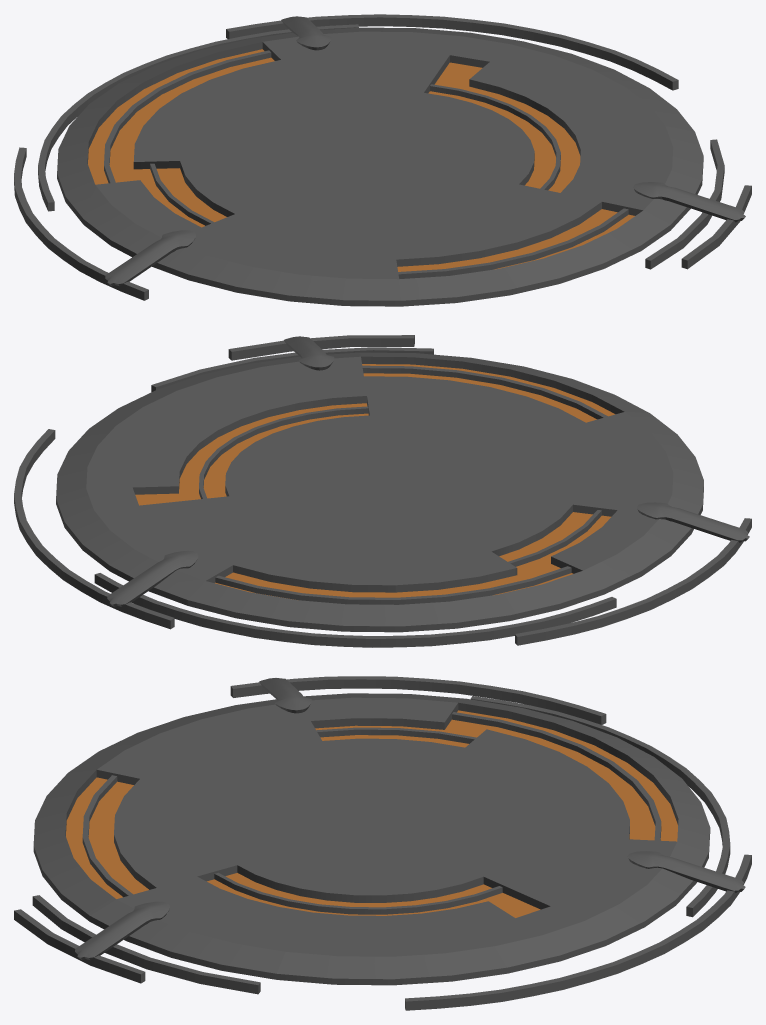
Rendered from VexArchitecture_53.fbx.
3 views of the same model, one above another, from view 1: azimuth 30°, elevation 25°; view 2: azimuth 150°, elevation 25°; view 3: azimuth 270°, elevation 25° (orthographic). The views are drawn at different scales.
Parts seen in each view (by area): view 1: Mesh_0477.rip, Mesh_0477.rip.001, Mesh_0497.rip, Mesh_0476.rip; view 2: Mesh_0477.rip, Mesh_0477.rip.001, Mesh_0497.rip, Mesh_0476.rip; view 3: Mesh_0477.rip, Mesh_0477.rip.001, Mesh_0497.rip, Mesh_0476.rip.
Boxes of the visible parts, x1,y1,x2,y2 form: Mesh_0477.rip: (97,27,687,278); Mesh_0477.rip.001: (14,14,751,306); Mesh_0497.rip: (88,49,634,271); Mesh_0476.rip: (430,84,560,190); Mesh_0477.rip: (86,335,673,585); Mesh_0477.rip.001: (14,335,751,647); Mesh_0497.rip: (135,364,615,599); Mesh_0476.rip: (199,406,368,498); Mesh_0477.rip: (100,697,676,993); Mesh_0477.rip.001: (14,676,751,1010); Mesh_0497.rip: (66,710,677,917); Mesh_0476.rip: (214,872,502,914).
Size of the model in its own units: 95.84 by 3.98 by 91.87.
